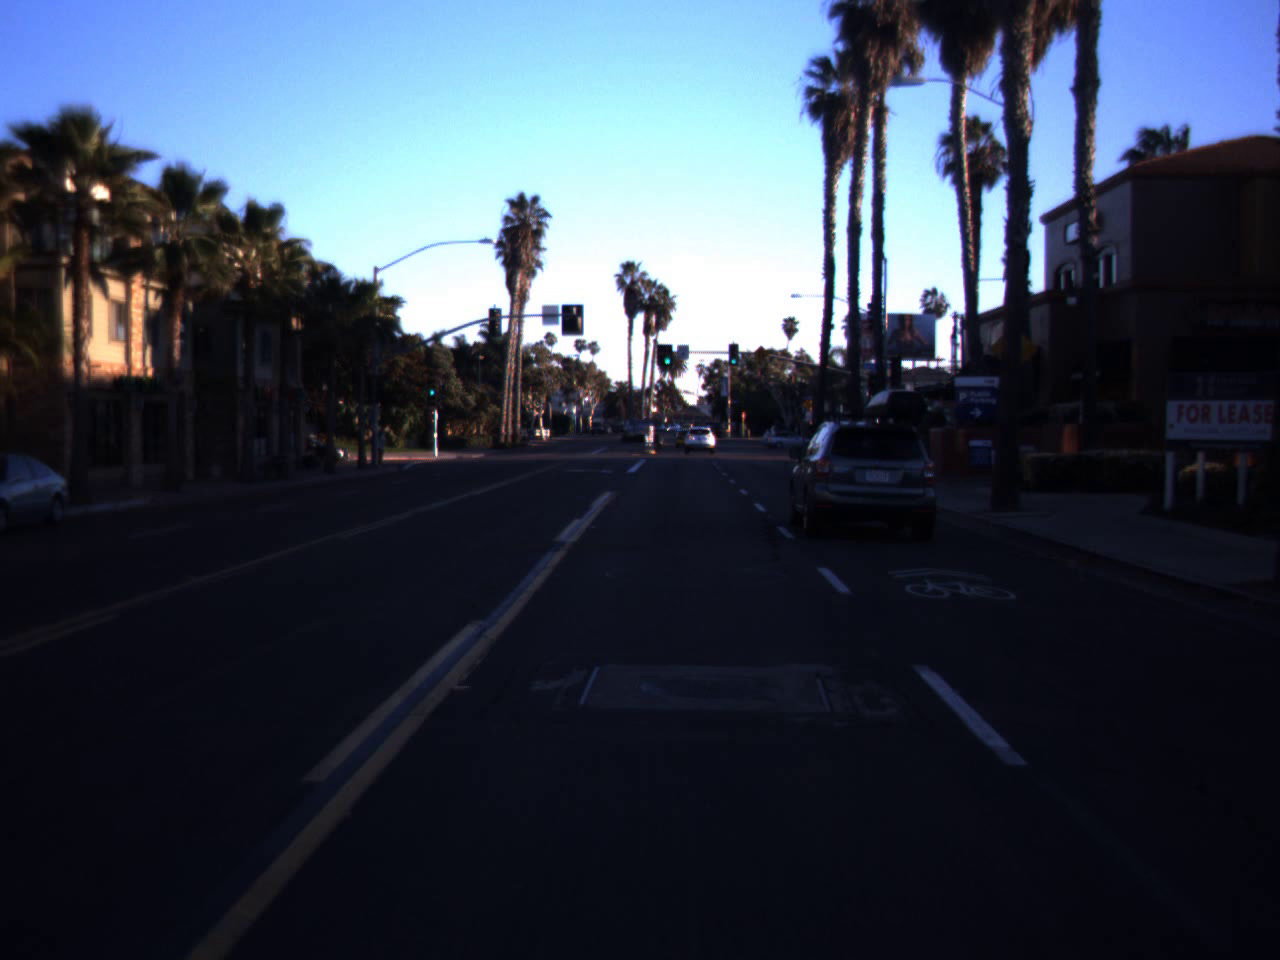go: (426, 376, 438, 396), (727, 345, 739, 365), (661, 345, 673, 365)
